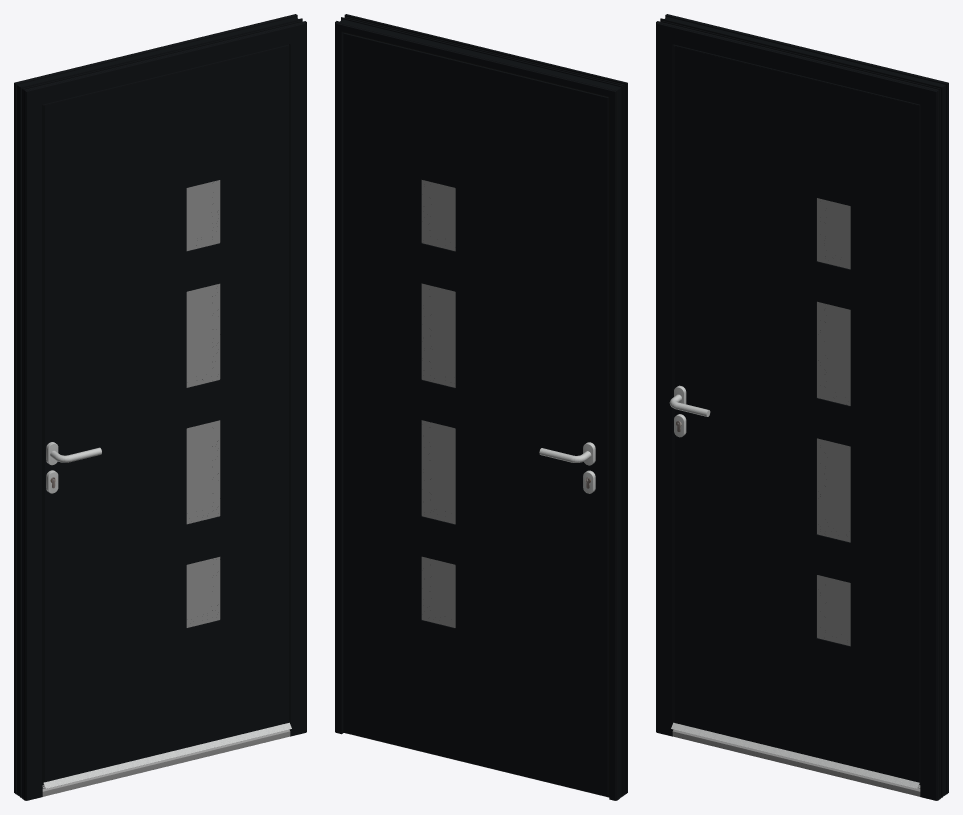
3 views of the same model, side by side, from view 1: azimuth 30°, elevation 25°; view 2: azimuth 150°, elevation 25°; view 3: azimuth 330°, elevation 25° (orthographic).
Visible parts, largest first — view 1: bloco_64, aroFixo, Box001, aroMovel, rodapé, escovas, puxador001; view 2: bloco_64, aroFixo, Box001, aroMovel, puxador; view 3: bloco_64, aroFixo, Box001, aroMovel, rodapé, escovas, puxador001.
Part boxes in pixels (bbox=[...]): bloco_64: bbox=[44, 46, 288, 782]; aroFixo: bbox=[14, 14, 306, 800]; Box001: bbox=[186, 180, 220, 627]; aroMovel: bbox=[42, 44, 289, 784]; rodapé: bbox=[42, 729, 290, 796]; escovas: bbox=[42, 722, 291, 788]; puxador001: bbox=[46, 442, 101, 493]; bloco_64: bbox=[343, 34, 607, 796]; aroFixo: bbox=[335, 14, 627, 800]; Box001: bbox=[421, 180, 455, 627]; aroMovel: bbox=[343, 32, 609, 796]; puxador: bbox=[539, 442, 595, 493]; bloco_64: bbox=[674, 46, 918, 782]; aroFixo: bbox=[656, 14, 948, 800]; Box001: bbox=[817, 198, 850, 646]; aroMovel: bbox=[673, 44, 920, 784]; rodapé: bbox=[672, 729, 920, 796]; escovas: bbox=[671, 722, 920, 788]; puxador001: bbox=[669, 385, 710, 437].
Bounding box in the file's own units: 900 × 2165 × 209.
7 materials, 2 textured.
